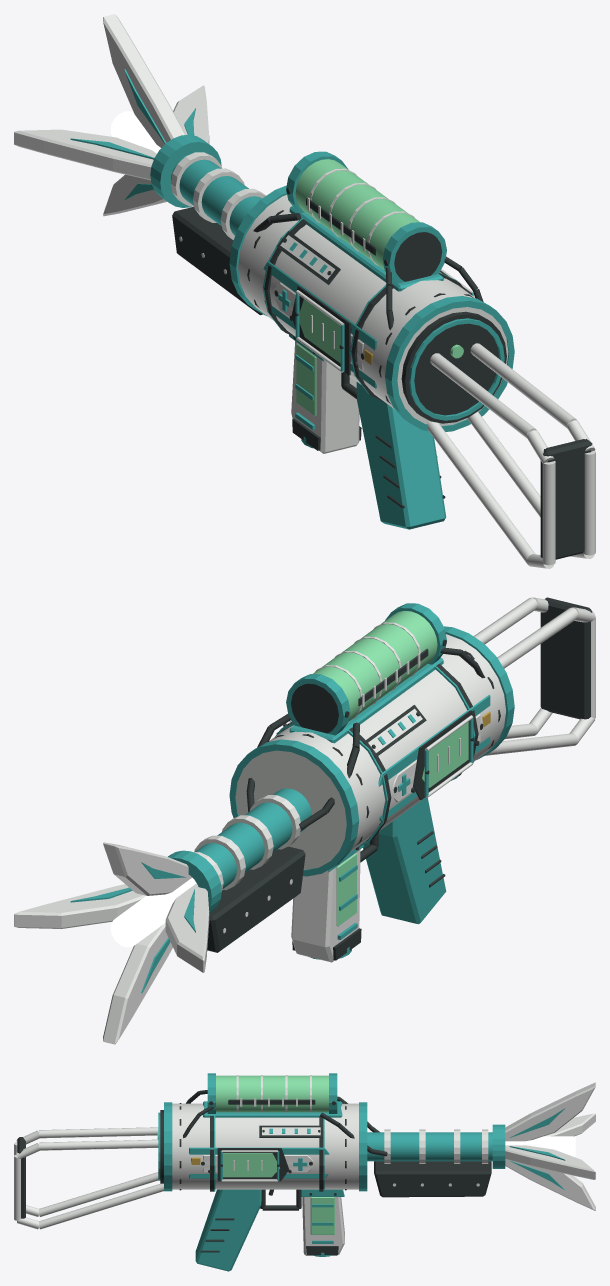
File: medic_4.glb
The picture shows the model from 3 angles, top to bottom: view 1: azimuth 30°, elevation 25°; view 2: azimuth 150°, elevation 25°; view 3: azimuth 270°, elevation 25°; orthographic projection. The views are drawn at different scales.
Parts seen in each view (by area): view 1: Weapon_medic_v1; view 2: Weapon_medic_v1; view 3: Weapon_medic_v1.
Boxes of the visible parts, box(x1,y1,x2,y2) form: Weapon_medic_v1: box(14, 14, 595, 568); Weapon_medic_v1: box(14, 597, 595, 1044); Weapon_medic_v1: box(14, 1073, 595, 1271).
Size of the model in its own units: 0.1982 by 0.3022 by 0.8351.
